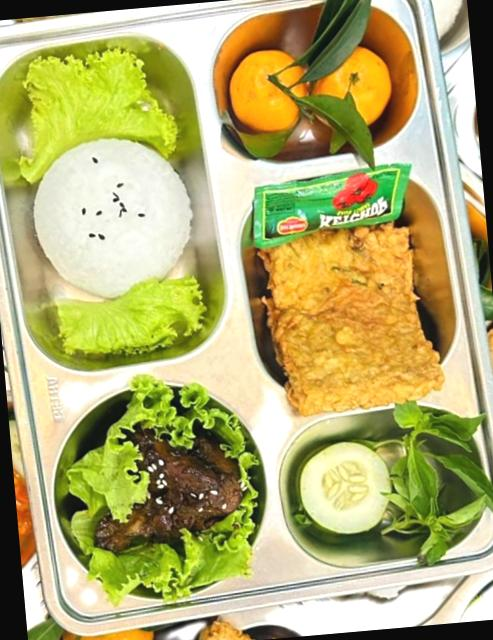ayam: (94, 429, 241, 551), (313, 47, 390, 125)
nasi: (32, 139, 191, 297)
sayur: (285, 402, 492, 564)
tempe: (258, 223, 443, 415)
